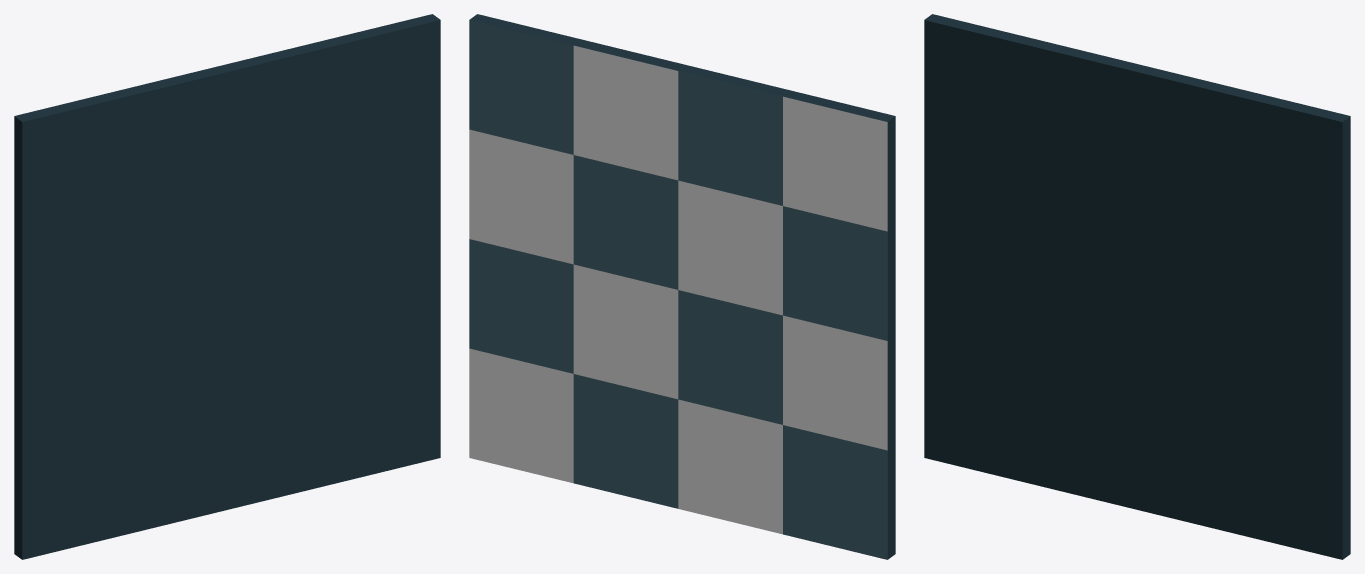
Rendered from CheckeredFloor.fbx.
3 renders of one model, left to right at view 1: azimuth 30°, elevation 25°; view 2: azimuth 150°, elevation 25°; view 3: azimuth 330°, elevation 25°, orthographic.
Visible parts, largest first — view 1: CheckeredFloor; view 2: CheckeredFloor; view 3: CheckeredFloor.
Boxes of the visible parts, x1=… form: CheckeredFloor: x1=14, y1=14, x2=440, y2=559; CheckeredFloor: x1=469, y1=14, x2=895, y2=559; CheckeredFloor: x1=924, y1=14, x2=1350, y2=559.
Bounding box in the file's own units: 148 × 148 × 5.04.
